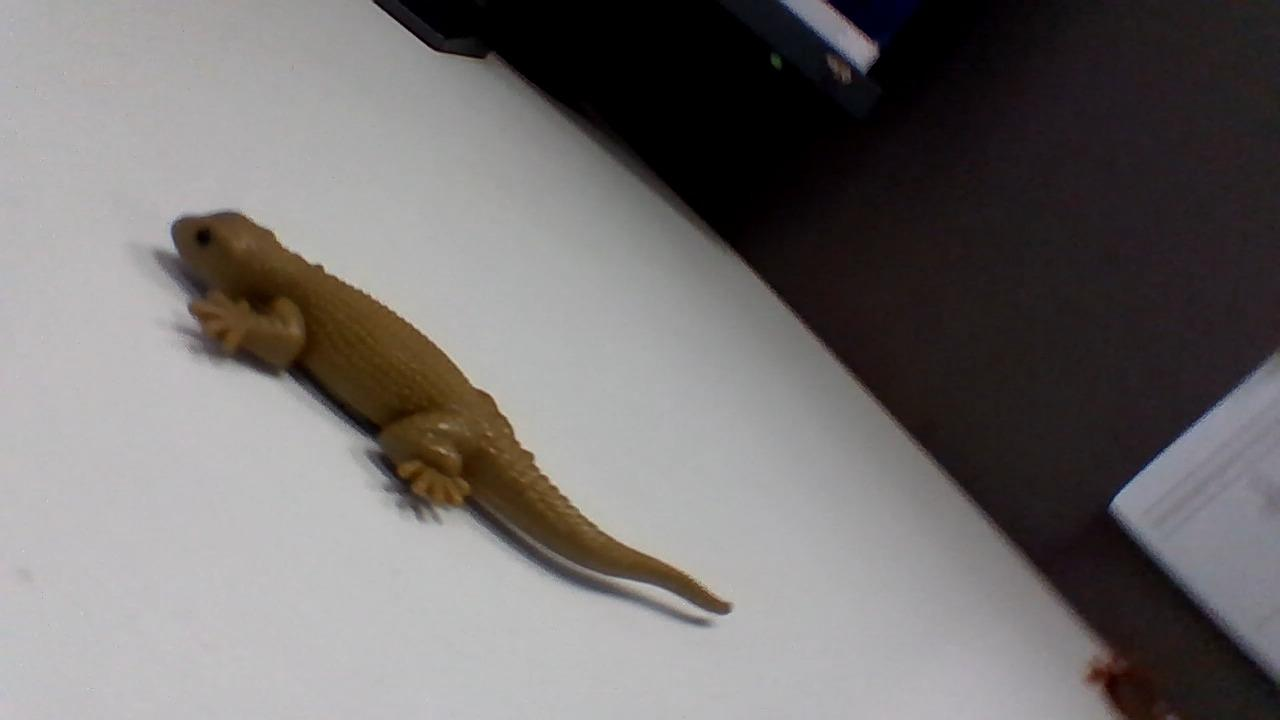lizard: (161, 192, 732, 614)
